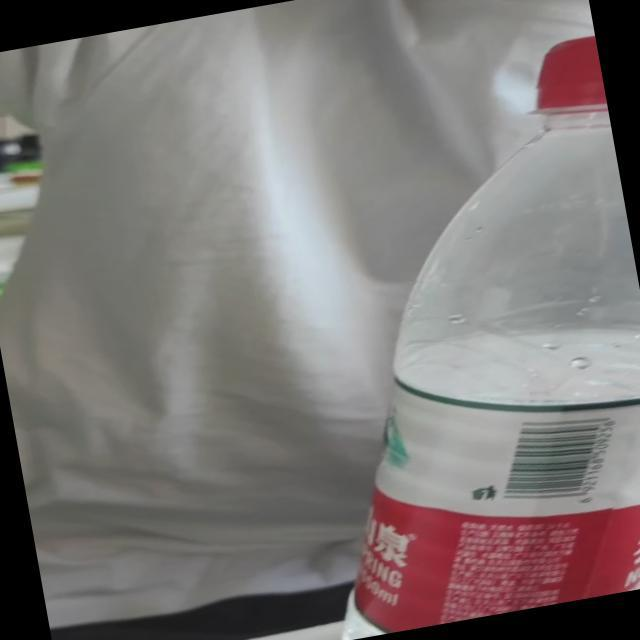good: (247, 28, 640, 640)
